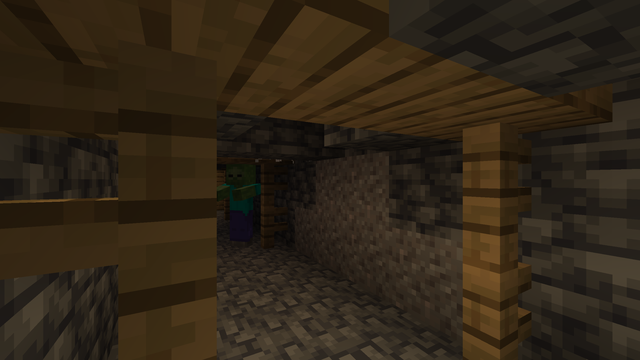zombies: (226, 165, 256, 248)
